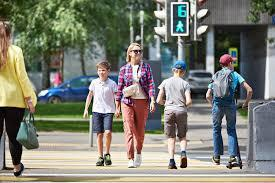pedestrian: (0, 21, 41, 177), (208, 53, 246, 169), (119, 42, 153, 168), (160, 59, 191, 169), (87, 61, 116, 167)
